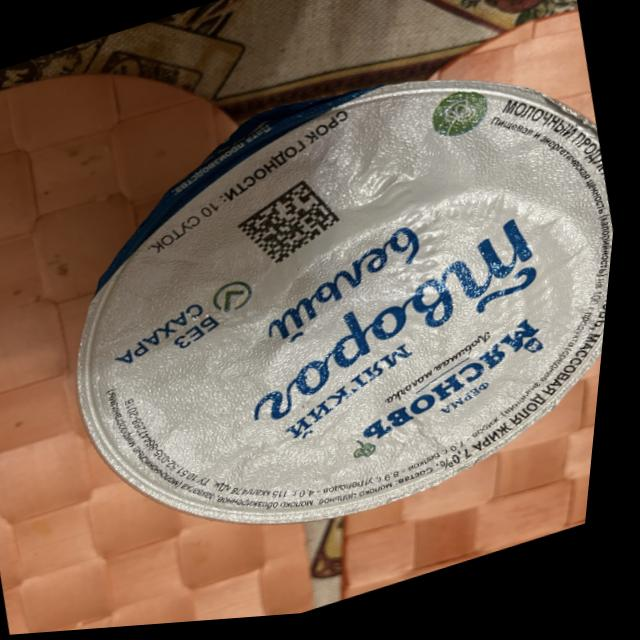datamatrix: (232, 175, 354, 279)
